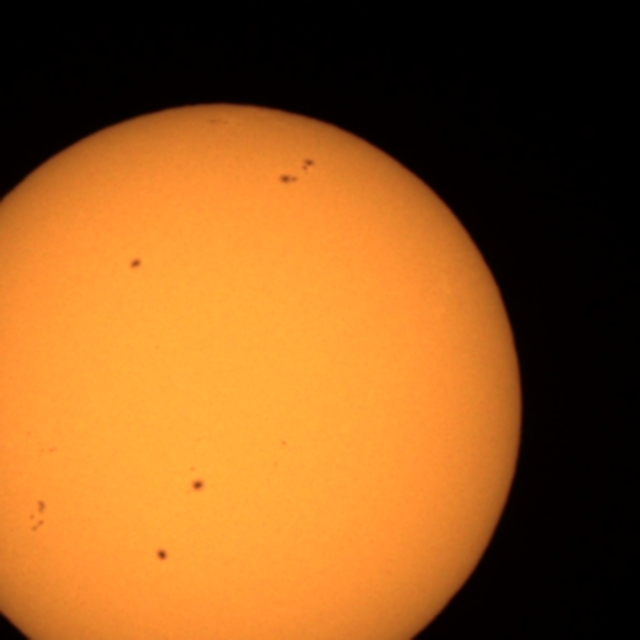sunspot: (276, 158, 317, 186), (27, 498, 49, 533), (188, 464, 206, 494), (276, 168, 302, 186), (300, 157, 316, 173), (128, 256, 144, 272), (154, 547, 170, 563), (279, 438, 289, 448)
